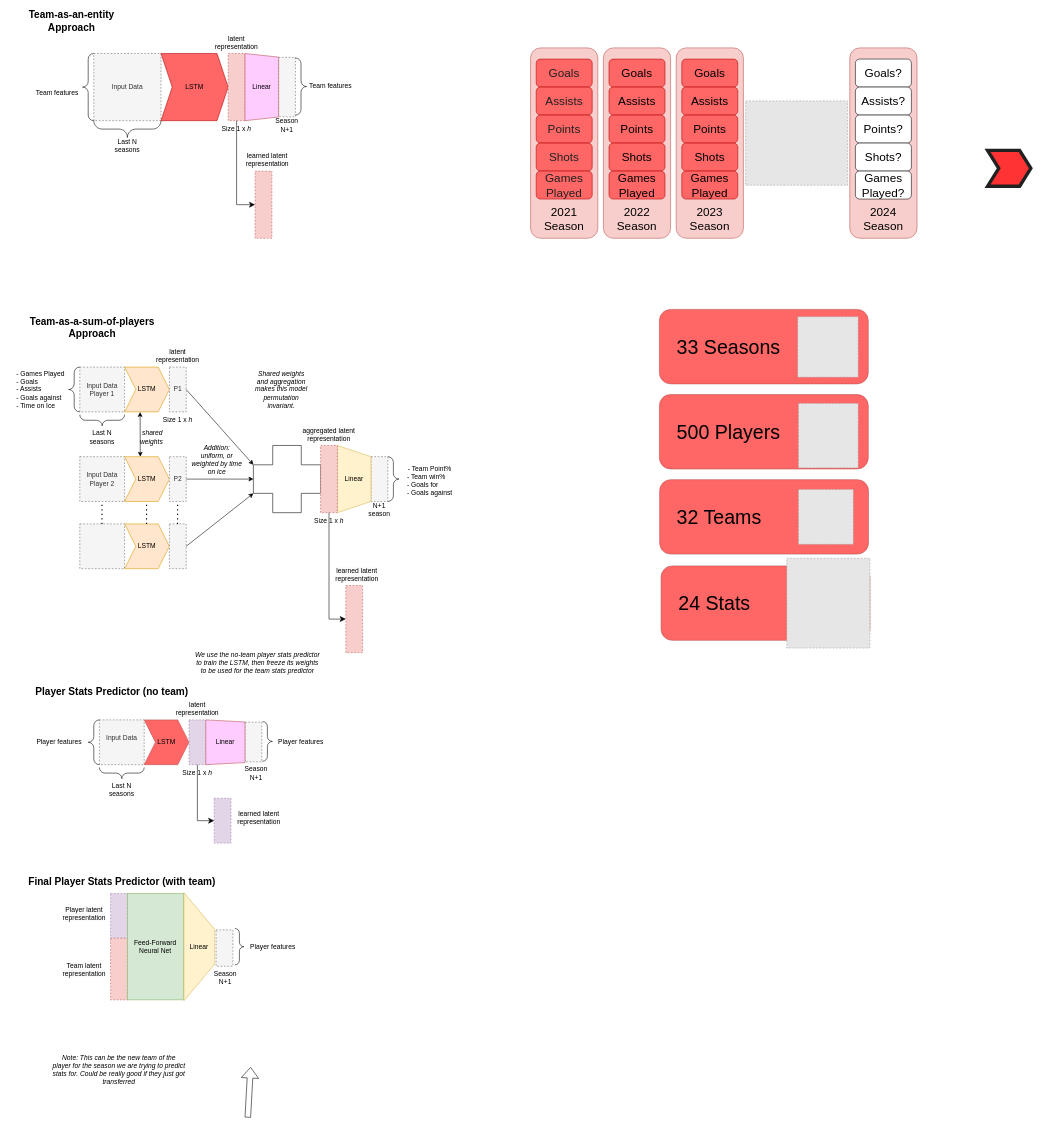
Image size: 1042x1127. Some labels were removed from this diagram. Grey dashed boxes stand in for pictures. Here are the shapes that lost their labels. From the top down, the box of each, then its label:
(253, 445, 321, 513): Aggregator
(79, 523, 125, 569): Input Data Player k
(169, 523, 186, 569): Pk
